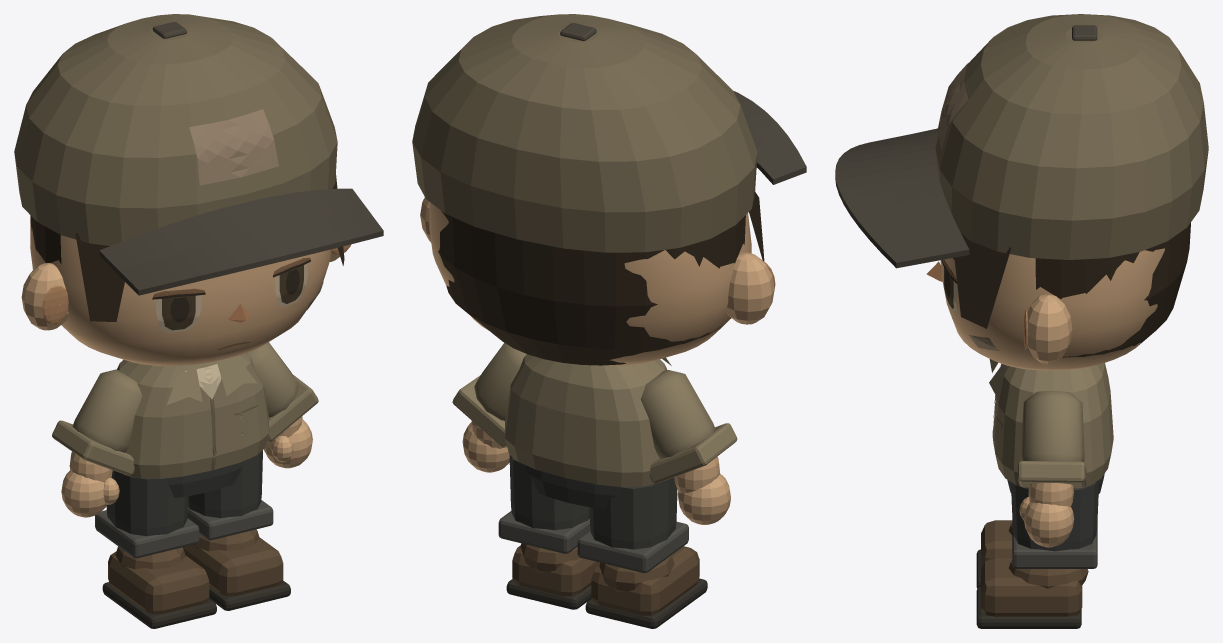
Rendered from SimpleSurvivor.fbx.
The picture shows the model from 3 angles, left to right: view 1: azimuth 30°, elevation 25°; view 2: azimuth 150°, elevation 25°; view 3: azimuth 270°, elevation 25°; orthographic projection. The views are drawn at different scales.
Visible parts, largest first — view 1: Survivor_cap, Survivor_shirt, Survivor_head, Survivor_boots, Survivor_trousers, Survivor_hair, Survivor_face_details, Survivor_hands, Survivor_body; view 2: Survivor_cap, Survivor_shirt, Survivor_hair, Survivor_trousers, Survivor_head, Survivor_boots, Survivor_hands, Survivor_body; view 3: Survivor_cap, Survivor_head, Survivor_shirt, Survivor_hair, Survivor_boots, Survivor_trousers, Survivor_hands, Survivor_body, Survivor_face_details.
Part boxes in pixels (bbox=[...]): Survivor_cap: bbox=[14, 14, 383, 295]; Survivor_shirt: bbox=[52, 342, 318, 478]; Survivor_head: bbox=[21, 216, 351, 366]; Survivor_boots: bbox=[102, 529, 290, 628]; Survivor_trousers: bbox=[95, 450, 273, 558]; Survivor_hair: bbox=[30, 175, 344, 322]; Survivor_face_details: bbox=[152, 257, 323, 350]; Survivor_hands: bbox=[61, 419, 312, 517]; Survivor_body: bbox=[69, 416, 302, 481]; Survivor_cap: bbox=[412, 14, 806, 252]; Survivor_shirt: bbox=[452, 343, 737, 486]; Survivor_hair: bbox=[438, 192, 764, 365]; Survivor_trousers: bbox=[498, 455, 688, 572]; Survivor_head: bbox=[420, 197, 775, 365]; Survivor_boots: bbox=[506, 543, 707, 628]; Survivor_hands: bbox=[462, 422, 730, 524]; Survivor_body: bbox=[471, 420, 719, 493]; Survivor_cap: bbox=[835, 14, 1208, 268]; Survivor_head: bbox=[940, 248, 1164, 370]; Survivor_shirt: bbox=[989, 359, 1113, 489]; Survivor_hair: bbox=[954, 222, 1190, 357]; Survivor_boots: bbox=[976, 520, 1088, 628]; Survivor_trousers: bbox=[1007, 474, 1104, 568]; Survivor_hands: bbox=[1019, 496, 1074, 547]; Survivor_body: bbox=[1028, 483, 1073, 506]; Survivor_face_details: bbox=[926, 258, 999, 350].
Bounding box in the file's own units: 111 × 178 × 107.
